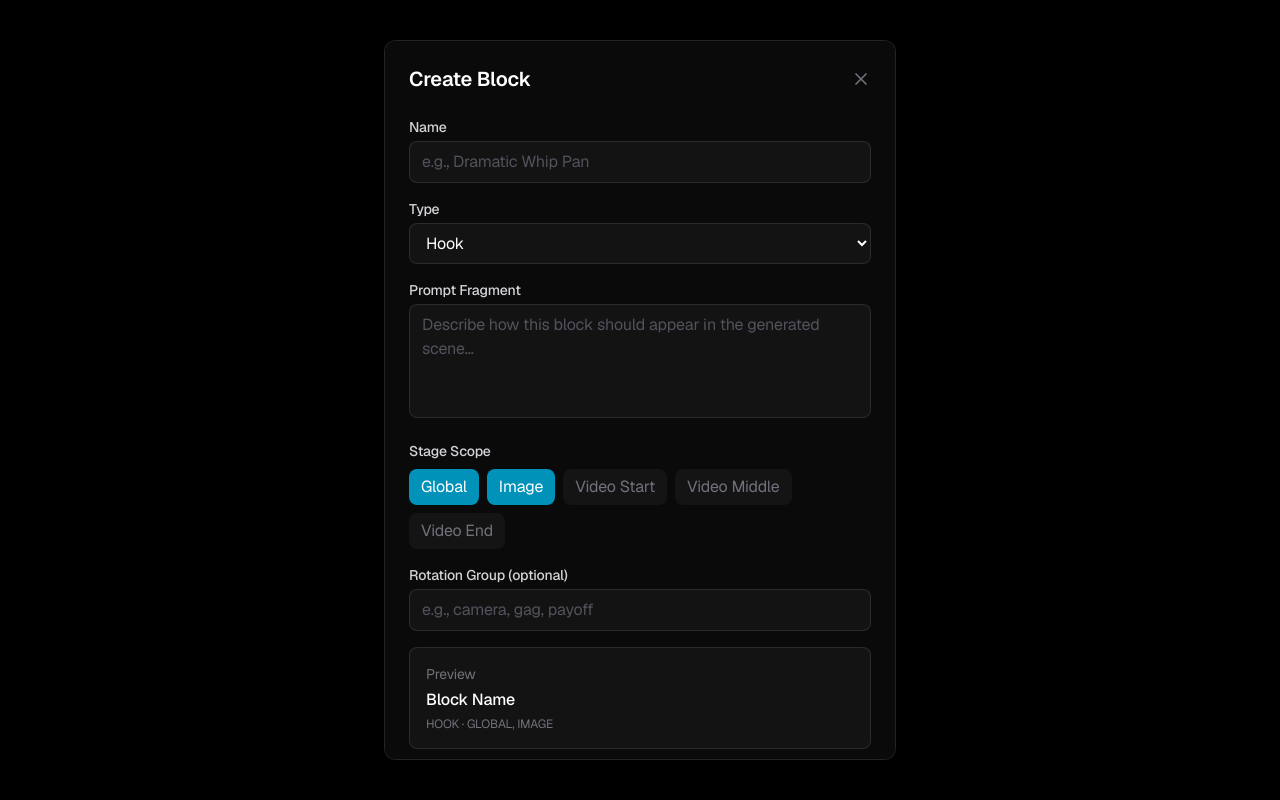
CreateBlockModal › Form Validation › shows error when name is too short
In the field labelled "Name": (640, 162) [409,141,871,183], type "ab"
(page scrolled)
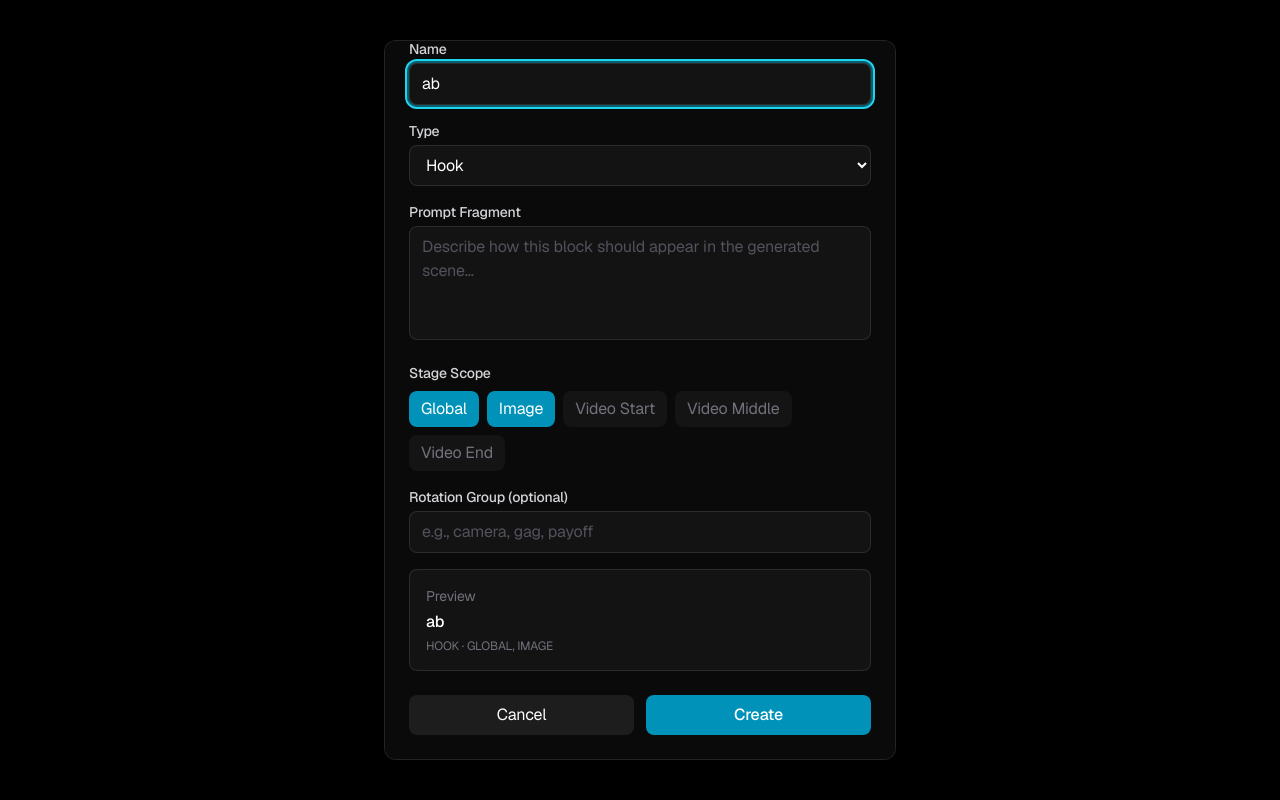
Click the button "Create": (758, 715) [646,695,871,735]
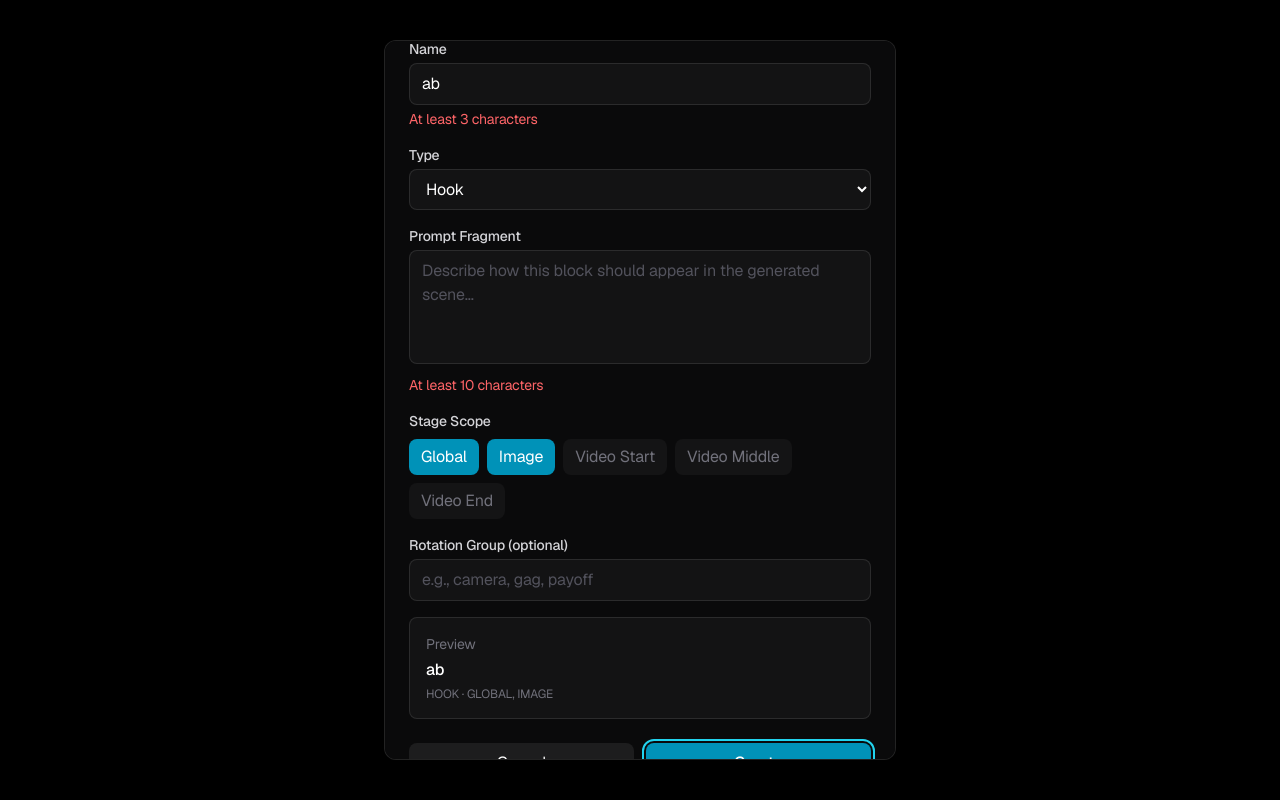
Expected: the text "At least 3 characters" is shown, [409,110,538,128]
